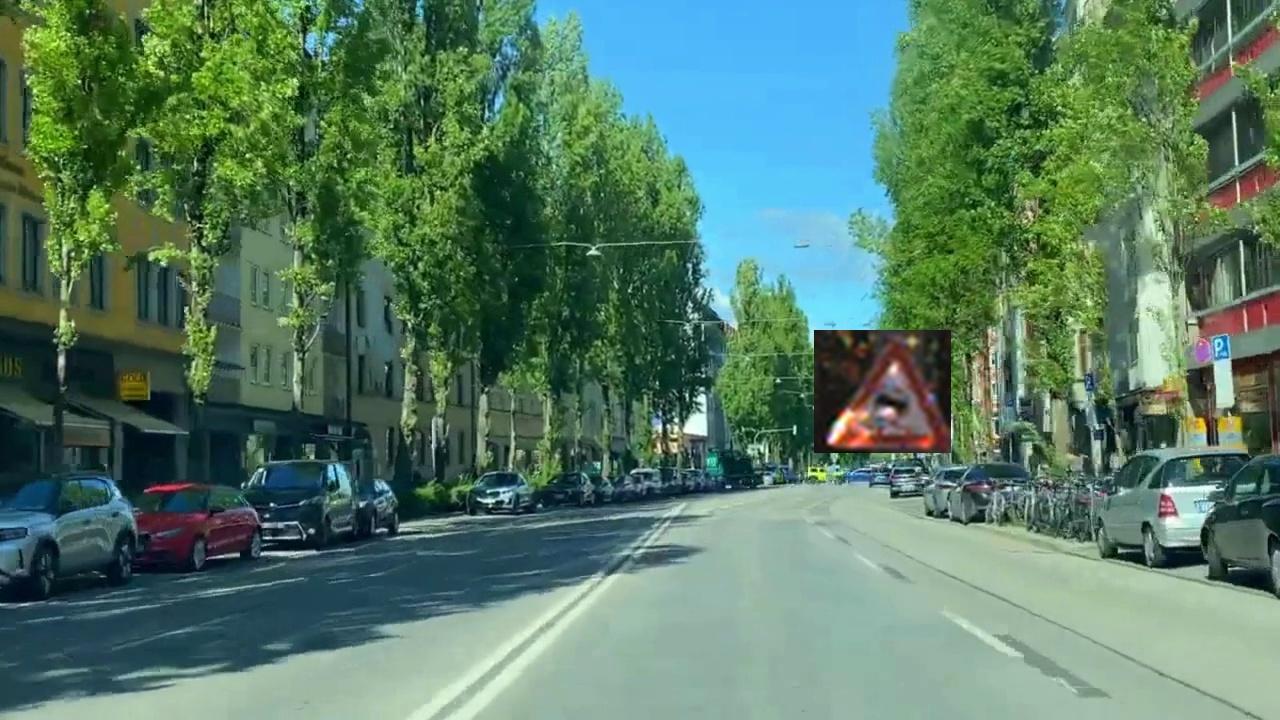Slippery: (814, 330, 951, 453)
